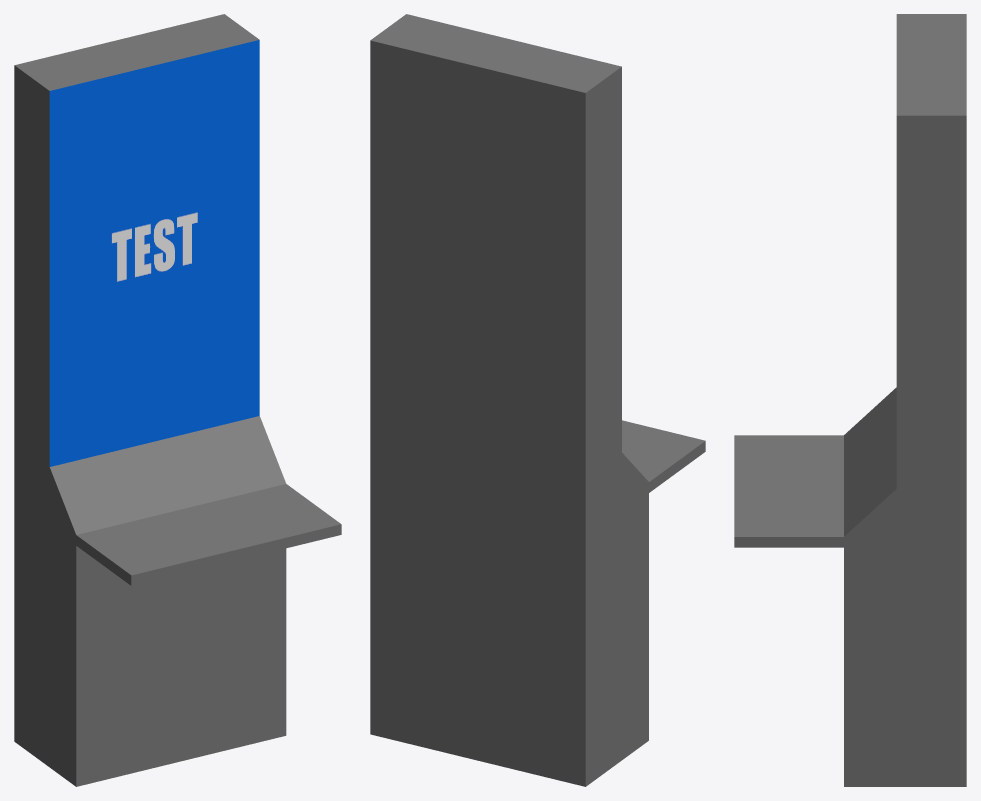
Rendered from test_scale1000.glb.
3 renders of one model, left to right at view 1: azimuth 30°, elevation 25°; view 2: azimuth 150°, elevation 25°; view 3: azimuth 270°, elevation 25°, orthographic. The views are drawn at different scales.
Parts seen in each view (by area): view 1: test_scale1000.obj.001; view 2: test_scale1000.obj.001; view 3: test_scale1000.obj.001.
Part boxes in pixels (x1,y1,x2,y2): test_scale1000.obj.001: (14,14,341,786); test_scale1000.obj.001: (370,14,705,786); test_scale1000.obj.001: (734,14,966,786).
Size of the model in its own units: 705 by 2171 by 681.
2 materials, 1 textured.
